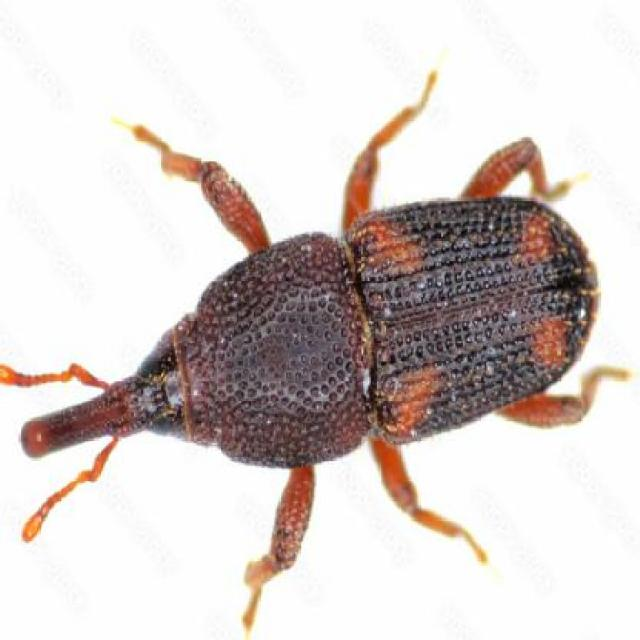rice-bug: (20, 135, 588, 520)
